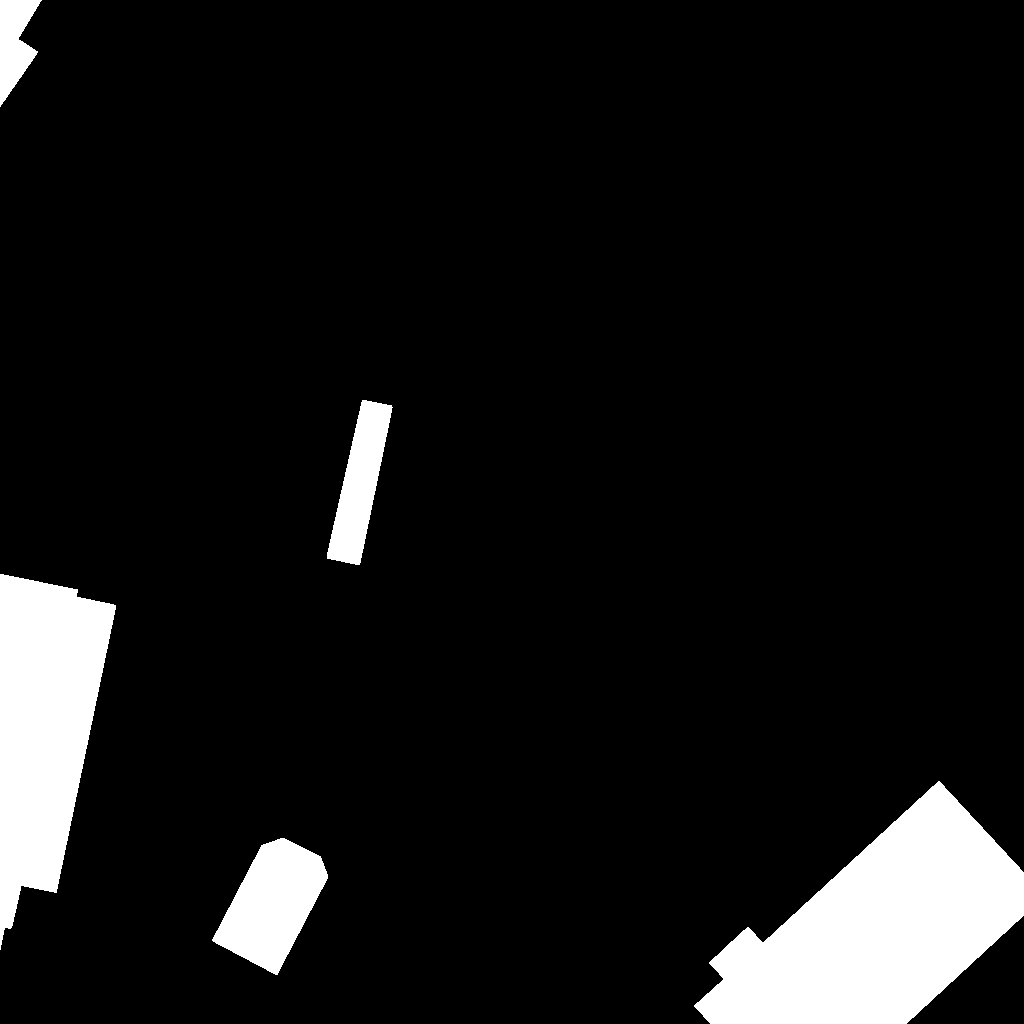building: (694, 781, 1024, 1024), (0, 574, 117, 953), (212, 838, 329, 976), (327, 400, 393, 566), (0, 0, 43, 108)
